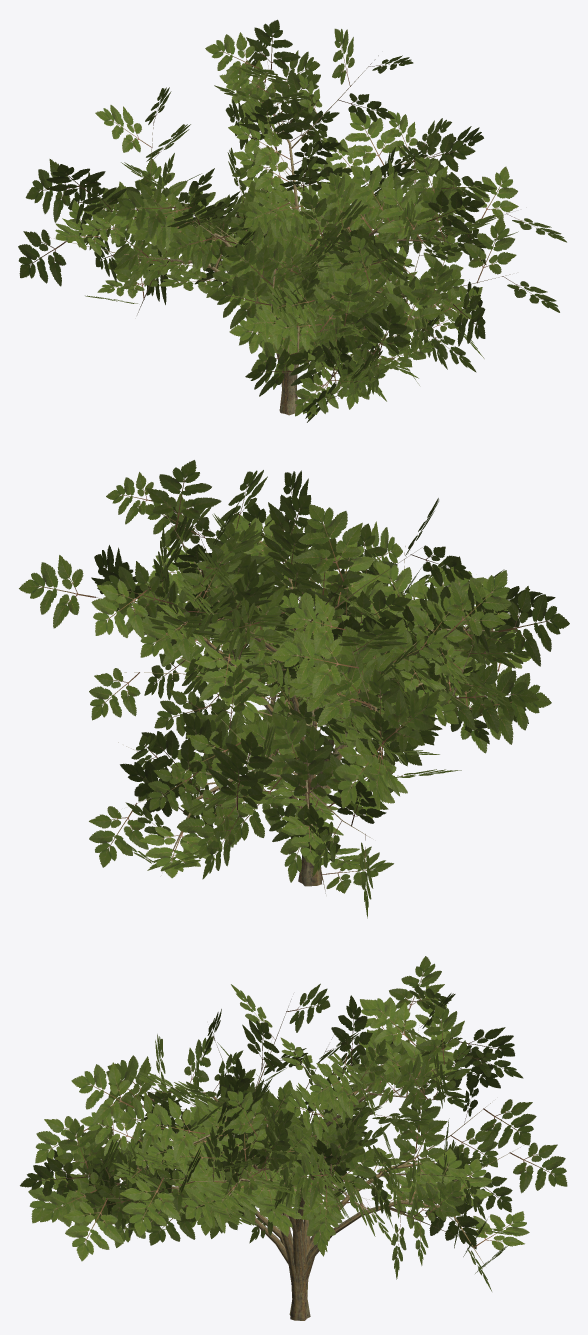
Rendered from SM_Shrub_01.fbx.
The picture shows the model from 3 angles, top to bottom: view 1: azimuth 30°, elevation 25°; view 2: azimuth 150°, elevation 25°; view 3: azimuth 270°, elevation 25°; orthographic projection. The views are drawn at different scales.
Parts seen in each view (by area): view 1: SM_Shrub_01_LOD0; view 2: SM_Shrub_01_LOD0; view 3: SM_Shrub_01_LOD0.
Part boxes in pixels (left/top/right/bottom): SM_Shrub_01_LOD0: left=18, top=19, right=566, bottom=422; SM_Shrub_01_LOD0: left=19, top=460, right=569, bottom=918; SM_Shrub_01_LOD0: left=20, top=956, right=567, bottom=1320.
Size of the model in its own units: 146 by 169 by 121.
2 materials, 2 textured.
